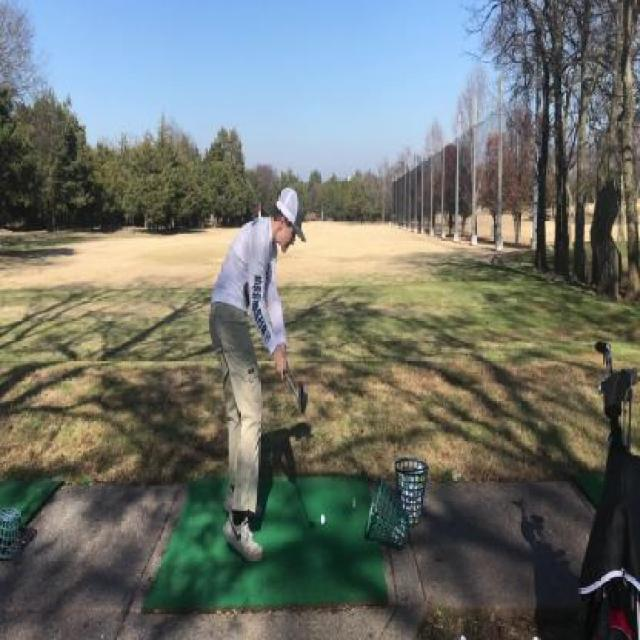club head: (294, 380, 308, 415)
